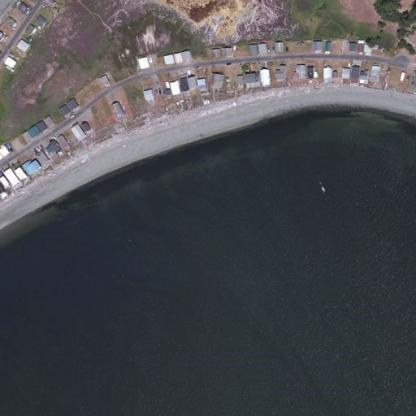ship: (318, 19, 322, 25)
